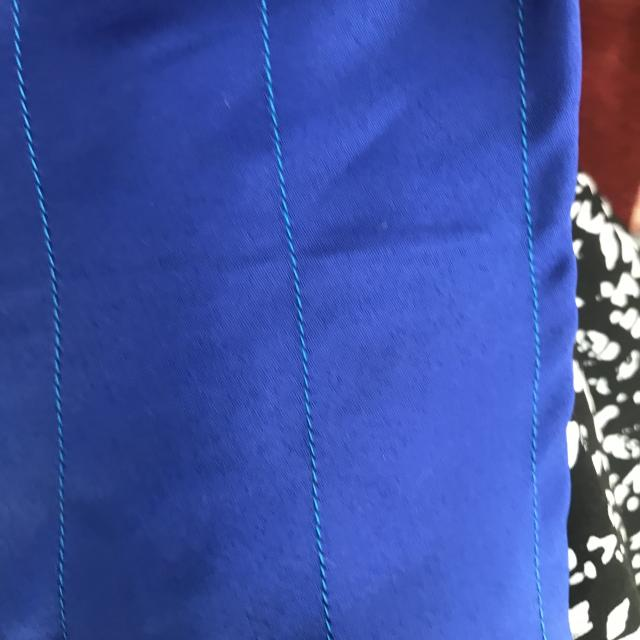good: (294, 414, 338, 598)
